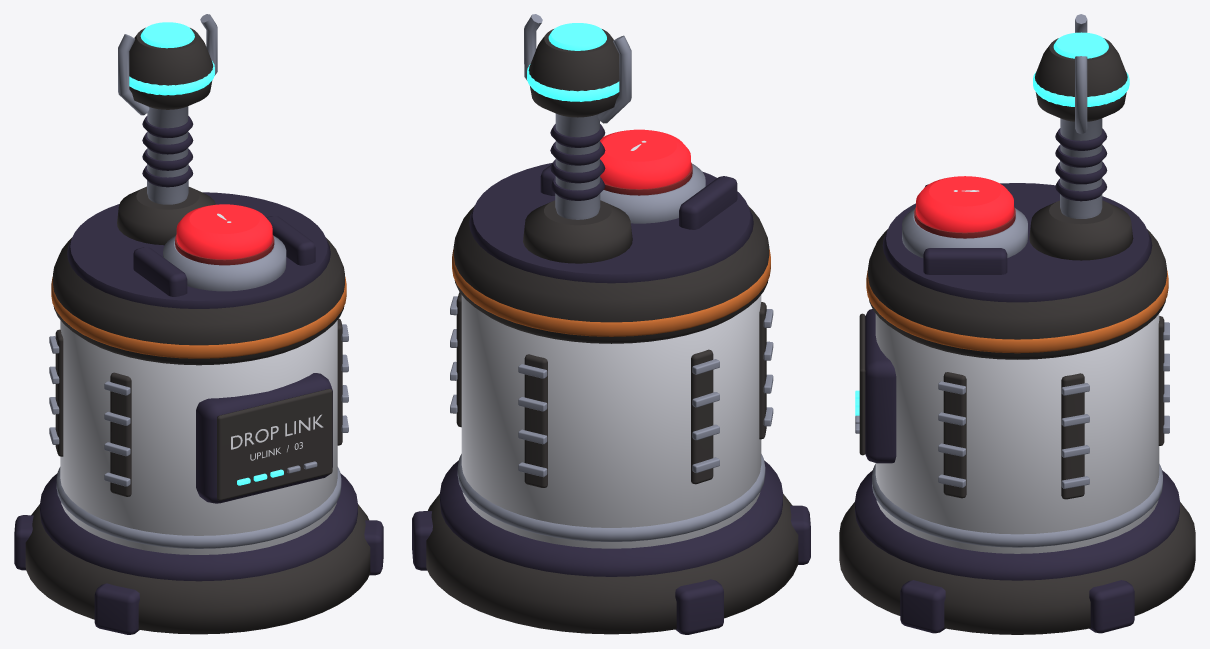
File: EnemySignalBeacon.fbx
3 views of the same model, side by side, from view 1: azimuth 30°, elevation 25°; view 2: azimuth 150°, elevation 25°; view 3: azimuth 270°, elevation 25° (orthographic). The views are drawn at different scales.
Visible parts, largest first — view 1: Beacon_Body, Button_Cap; view 2: Beacon_Body, Button_Cap; view 3: Beacon_Body, Button_Cap.
Boxes of the visible parts, <box> form: Beacon_Body: <box>14,14,383,634</box>; Button_Cap: <box>176,204,272,259</box>; Beacon_Body: <box>412,14,810,634</box>; Button_Cap: <box>600,129,690,189</box>; Beacon_Body: <box>839,14,1195,634</box>; Button_Cap: <box>916,176,1013,232</box>.
Bounding box in the file's own units: 1.04 × 1.71 × 1.04.
